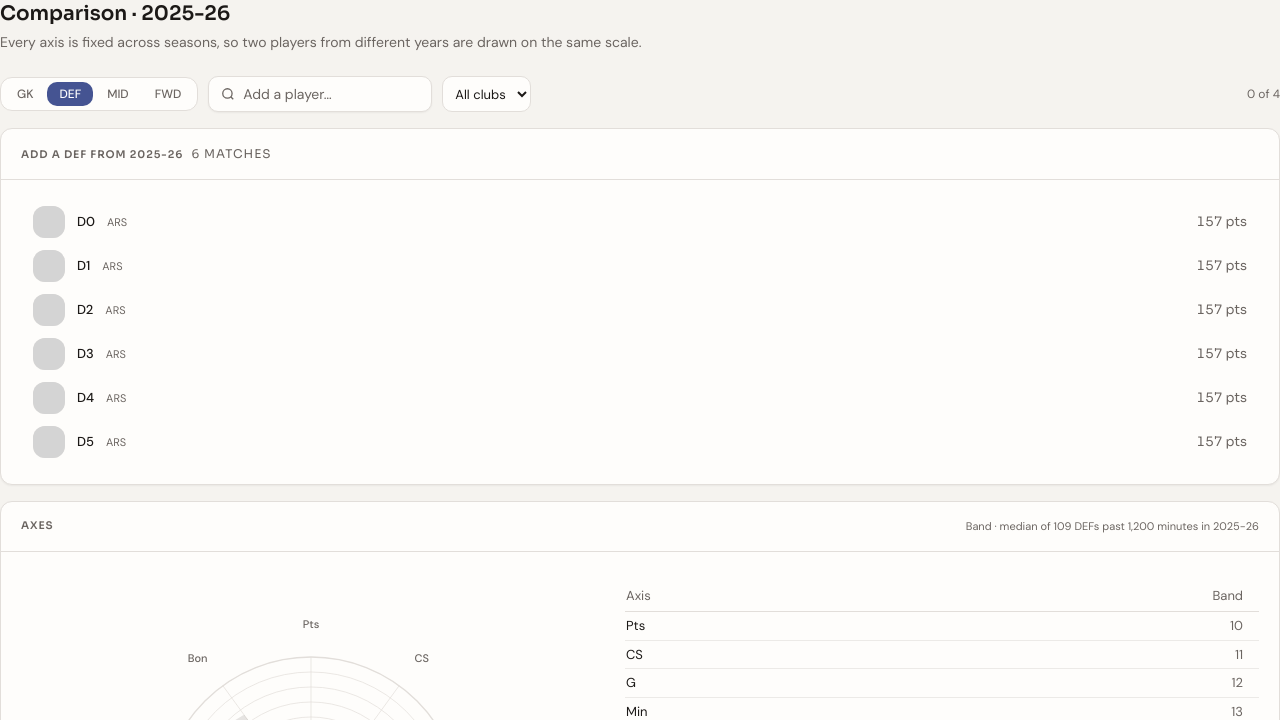
Test: the trace limit › stops at four and says so
Click the button "D0 ARS 157 pts" at {"x": 49, "y": 222}, box [21,200,1259,244]
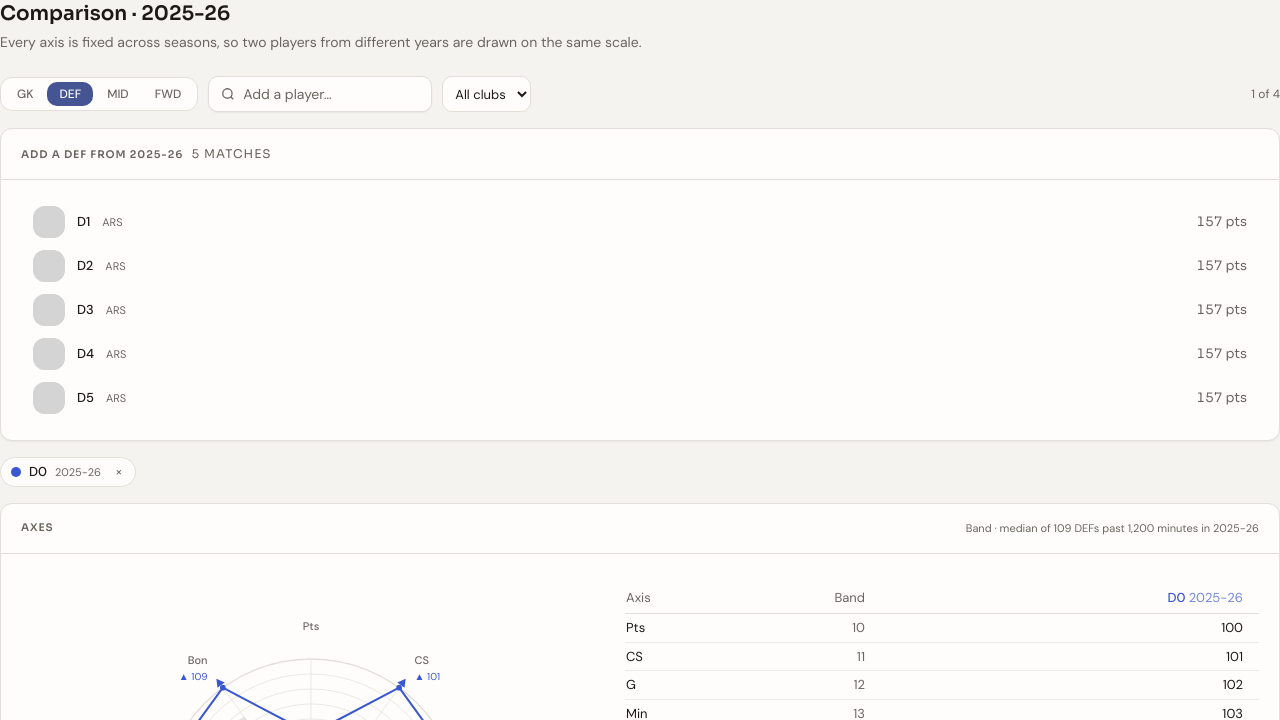
Click the button "D1 ARS 157 pts" at {"x": 49, "y": 222}, box [21,200,1259,244]
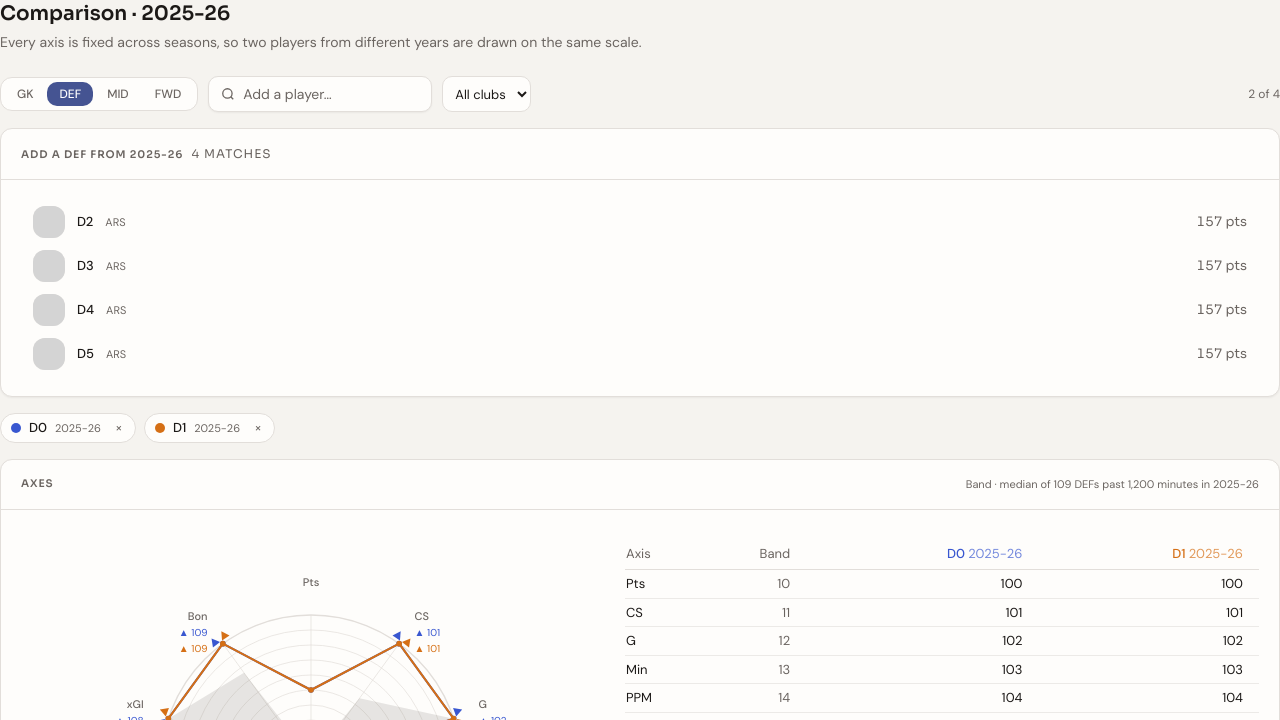
Click the button "D2 ARS 157 pts" at {"x": 49, "y": 222}, box [21,200,1259,244]
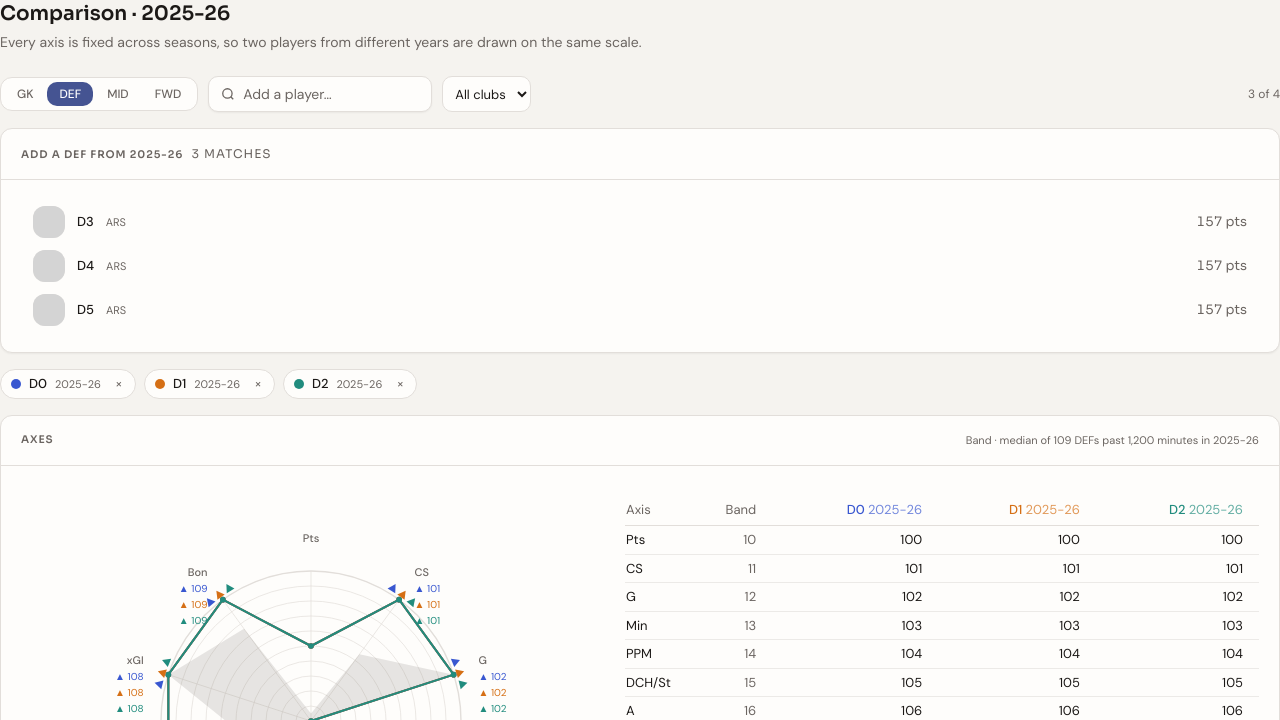
Click the button "D3 ARS 157 pts" at {"x": 49, "y": 222}, box [21,200,1259,244]
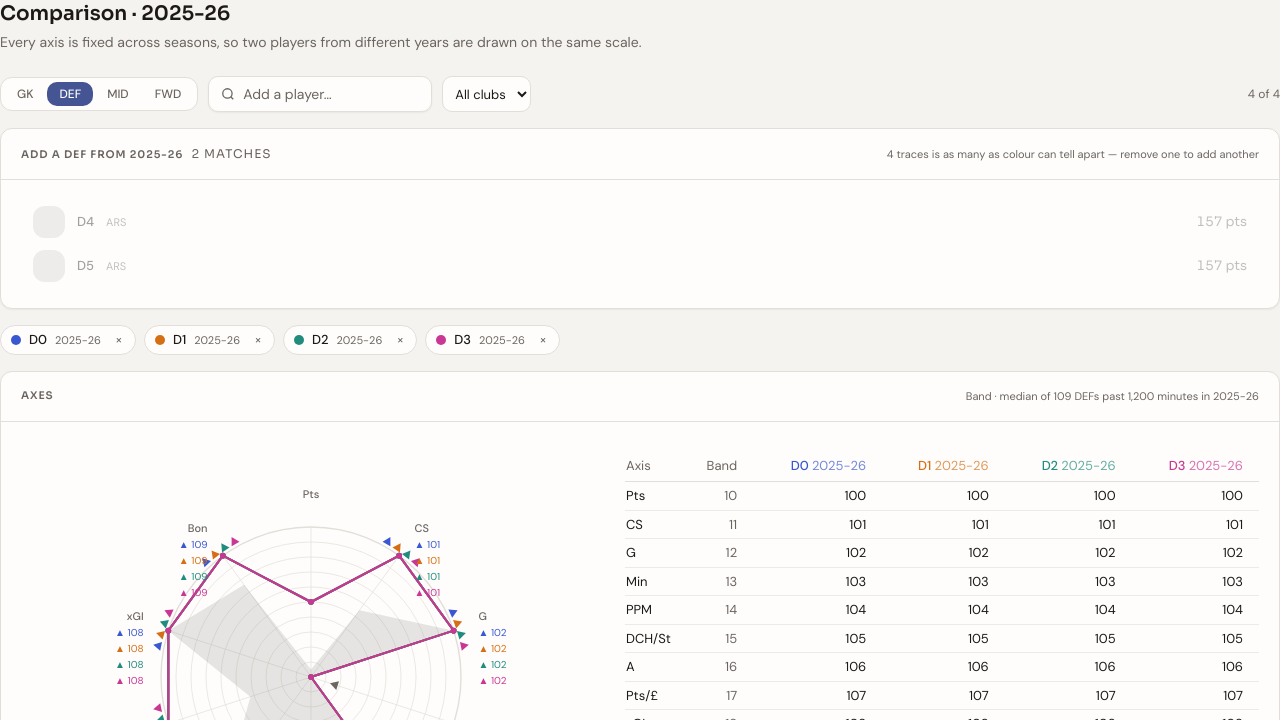
Check: the text "as many as colour can tell apart" is shown, box [887,147,1259,161]
